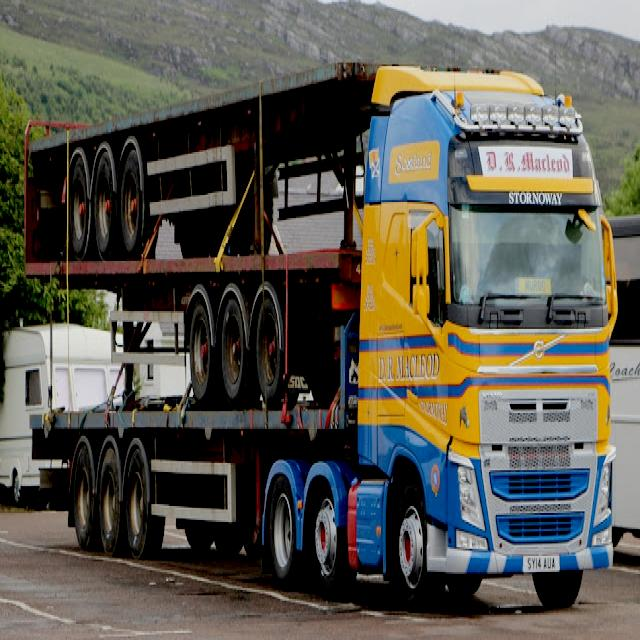truck: (19, 62, 618, 602)
